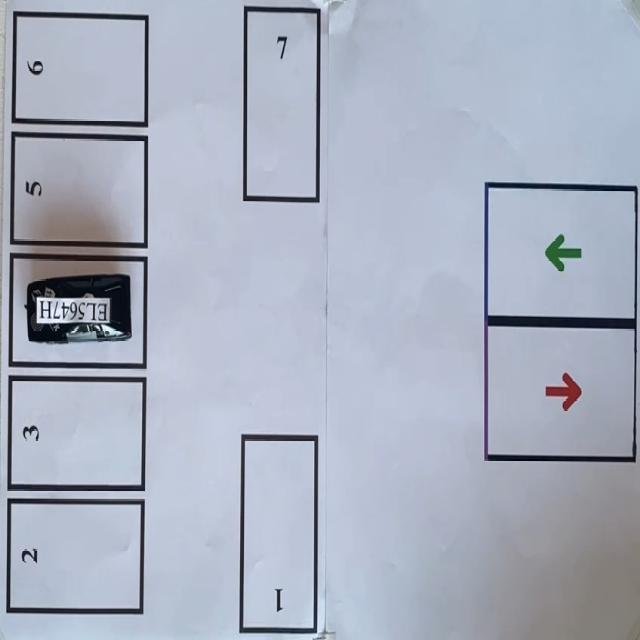car: (25, 271, 135, 347)
